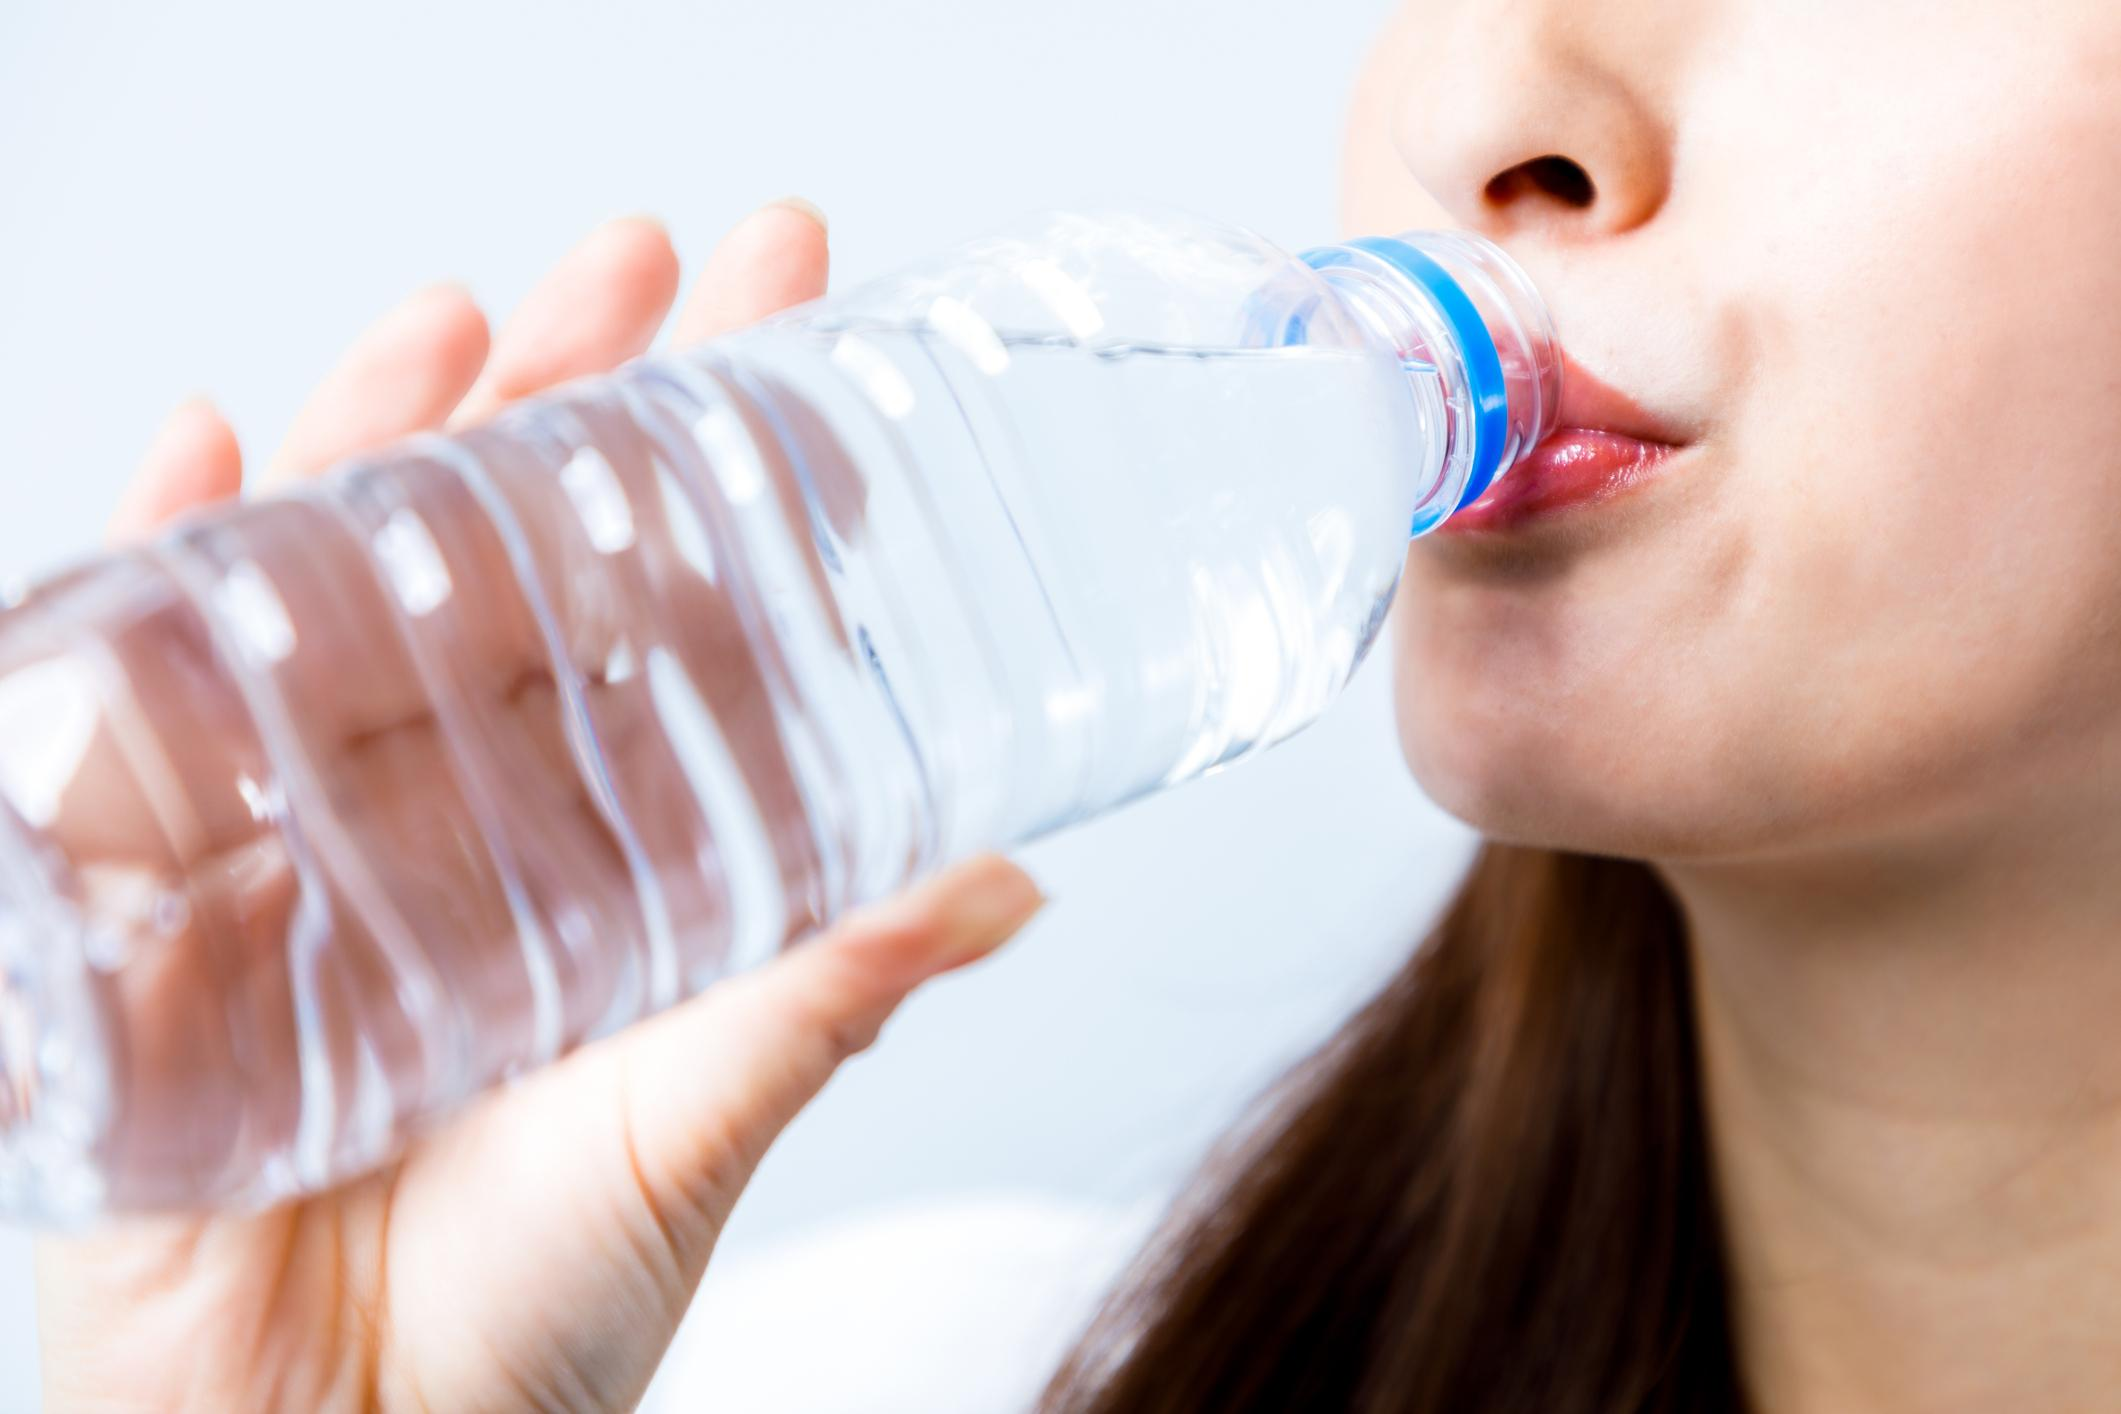paper: (0, 63, 1687, 1291)
